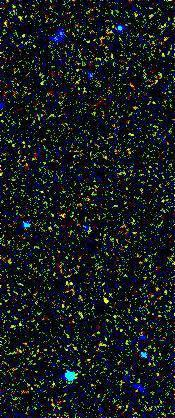star: (92, 284, 122, 314)
